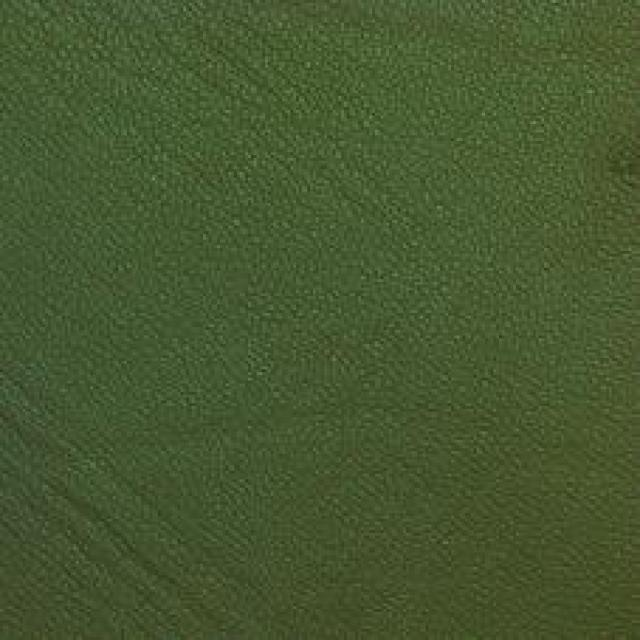Growth Marks: (29, 442, 228, 611), (113, 13, 308, 122)
